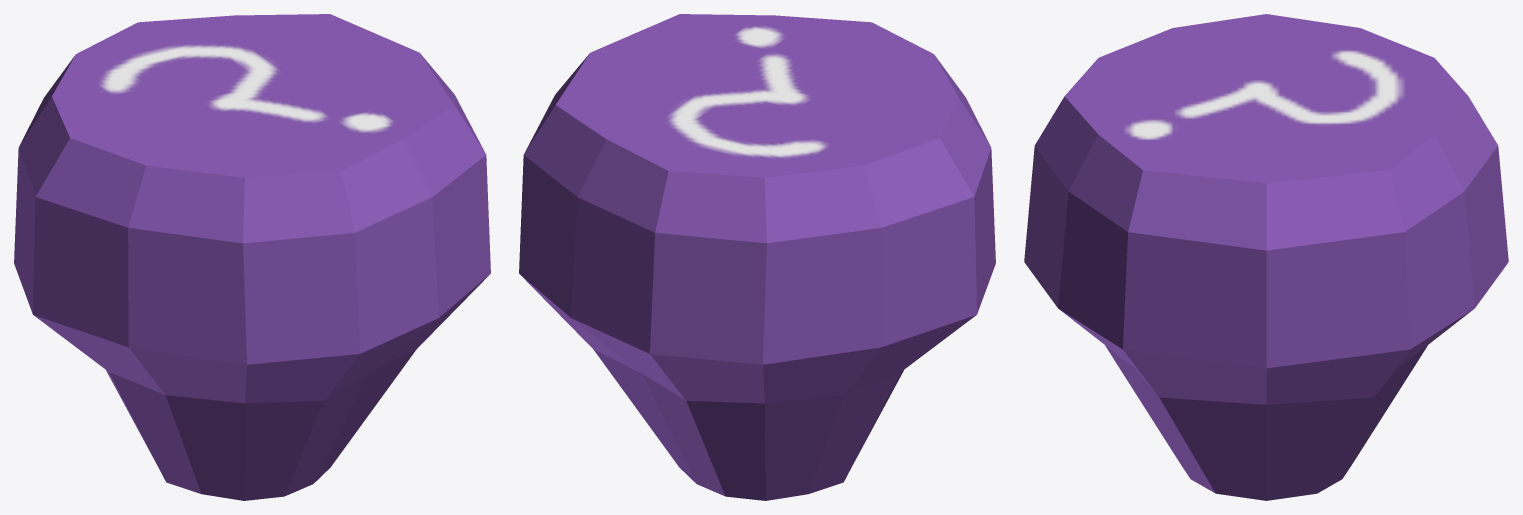
The model's file is buttonpurple.glb.
3 views of the same model, side by side, from view 1: azimuth 30°, elevation 25°; view 2: azimuth 150°, elevation 25°; view 3: azimuth 270°, elevation 25° (orthographic).
Parts seen in each view (by area): view 1: Buttonpurple; view 2: Buttonpurple; view 3: Buttonpurple.
Part boxes in pixels (left/top/right/bottom): Buttonpurple: left=14, top=14, right=490, bottom=500; Buttonpurple: left=519, top=14, right=995, bottom=500; Buttonpurple: left=1024, top=14, right=1508, bottom=500.
Bounding box in the file's own units: 0.4606 × 0.3815 × 0.4582.
Materials: 1 (1 with a texture image).
